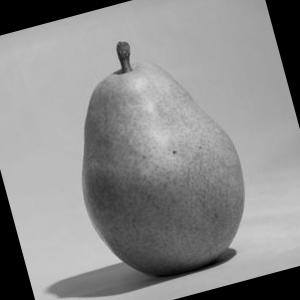fruit: (26, 12, 286, 299)
